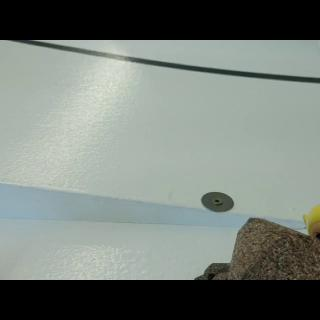teletubby: (304, 205, 320, 238)
